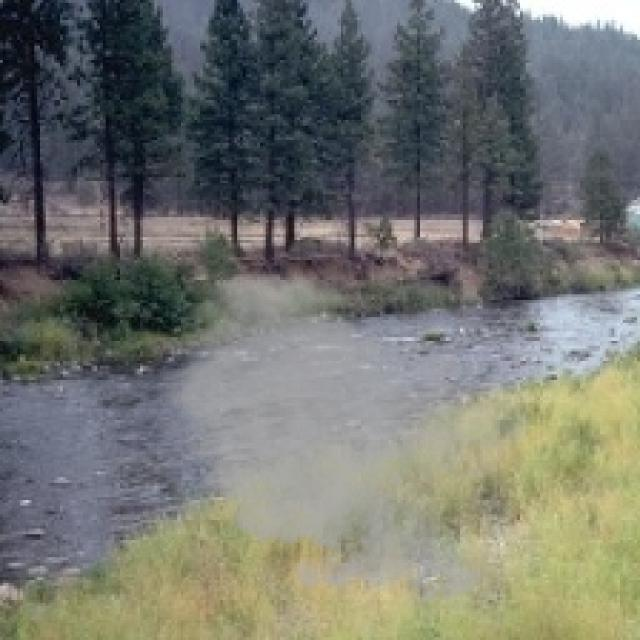smoke: (148, 263, 532, 614)
